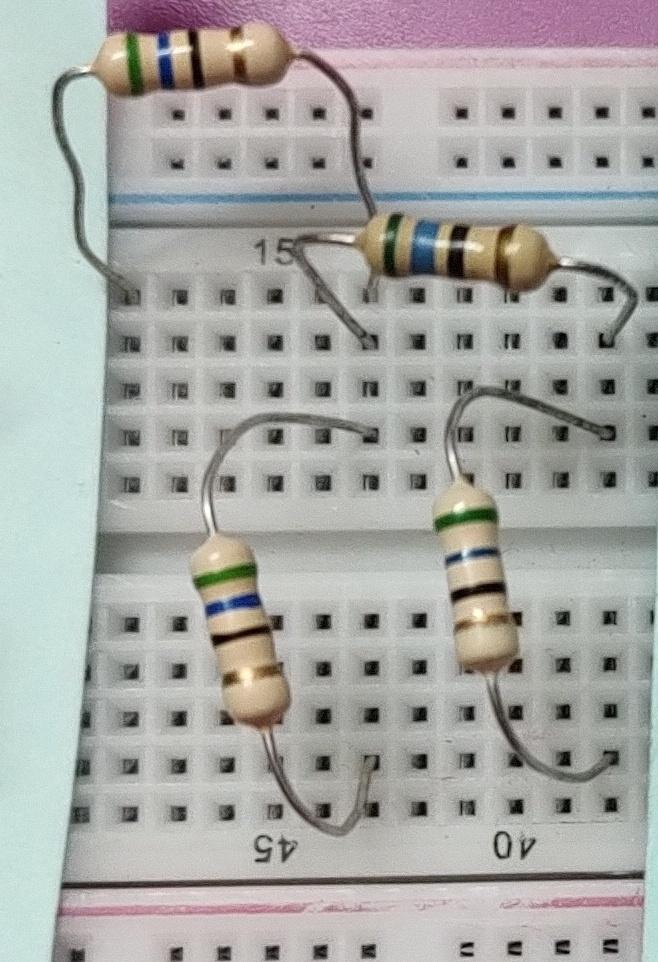resistor: (177, 519, 308, 744), (425, 469, 538, 687), (347, 203, 569, 300), (83, 15, 309, 102)
